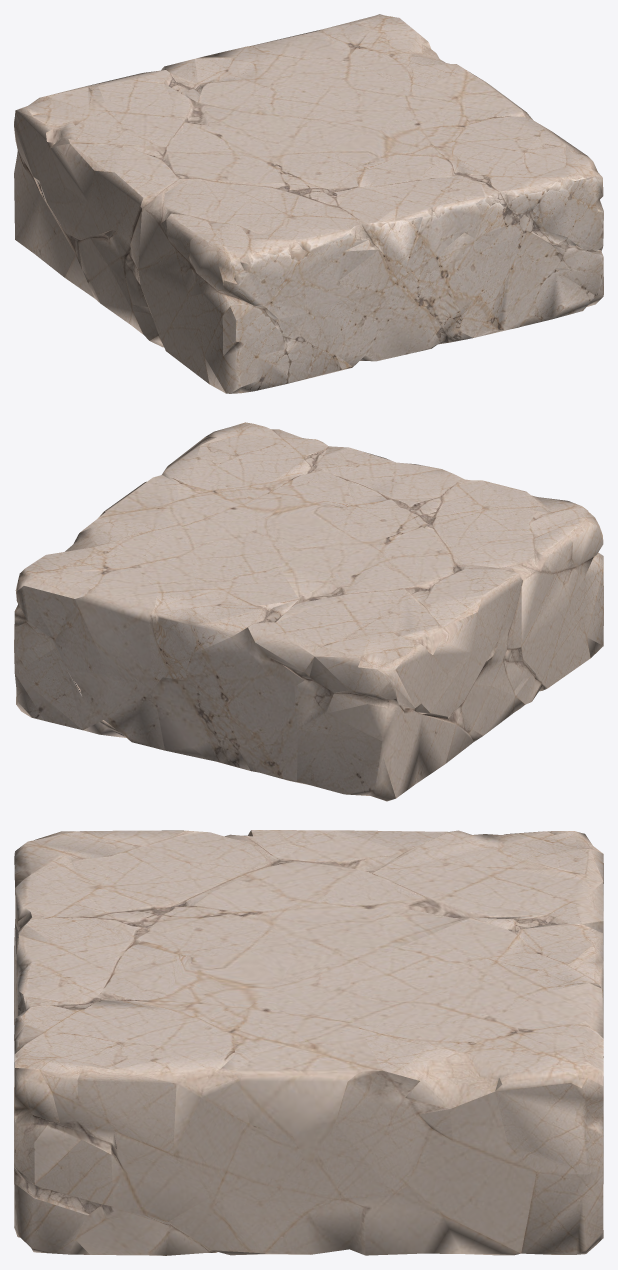
The model's file is marble-monolith.glb.
The picture shows the model from 3 angles, top to bottom: view 1: azimuth 30°, elevation 25°; view 2: azimuth 150°, elevation 25°; view 3: azimuth 270°, elevation 25°; orthographic projection. The views are drawn at different scales.
Parts seen in each view (by area): view 1: marble-monolith; view 2: marble-monolith; view 3: marble-monolith.
Boxes of the visible parts, x1,y1,x2,y2 form: marble-monolith: [14, 14, 603, 393]; marble-monolith: [14, 422, 603, 801]; marble-monolith: [14, 830, 603, 1255].
Bounding box in the file's own units: 1.9 × 0.6575 × 1.9.
Materials: 1 (1 with a texture image).
